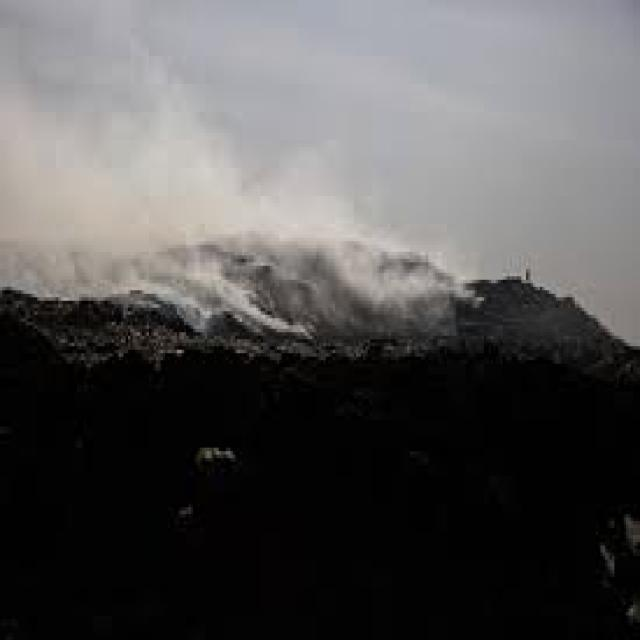Smoke: (126, 42, 360, 230), (0, 108, 133, 296), (142, 251, 322, 342), (335, 228, 465, 342)
